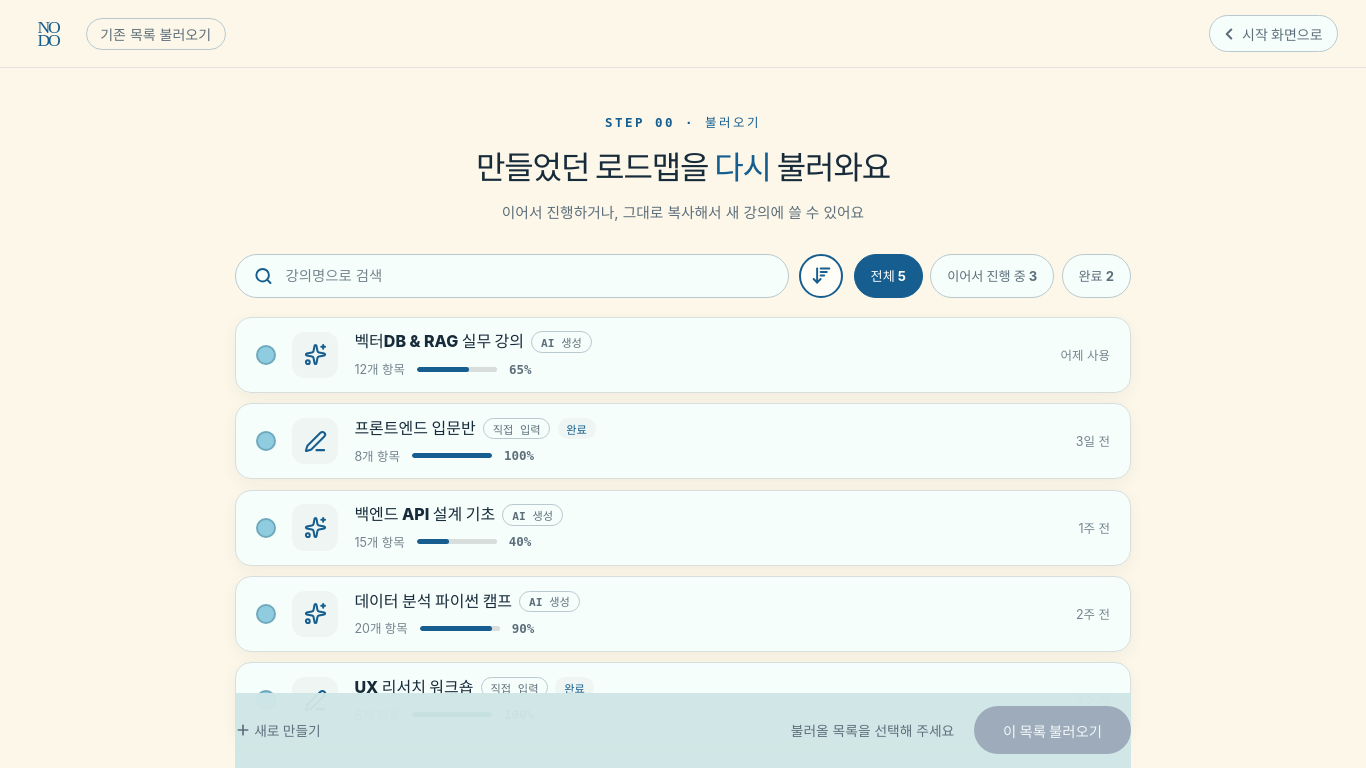
Test: ImportCoursesPage › 선택 전에는 불러오기 버튼이 비활성화되고 선택 후 활성화된다
expect the button "이 목록 불러오기" is disabled: met, box [974, 706, 1131, 754]
Click the radio button with aria-label "백엔드 API 설계 기초 선택".
click(266, 528)  # box [256, 518, 276, 538]
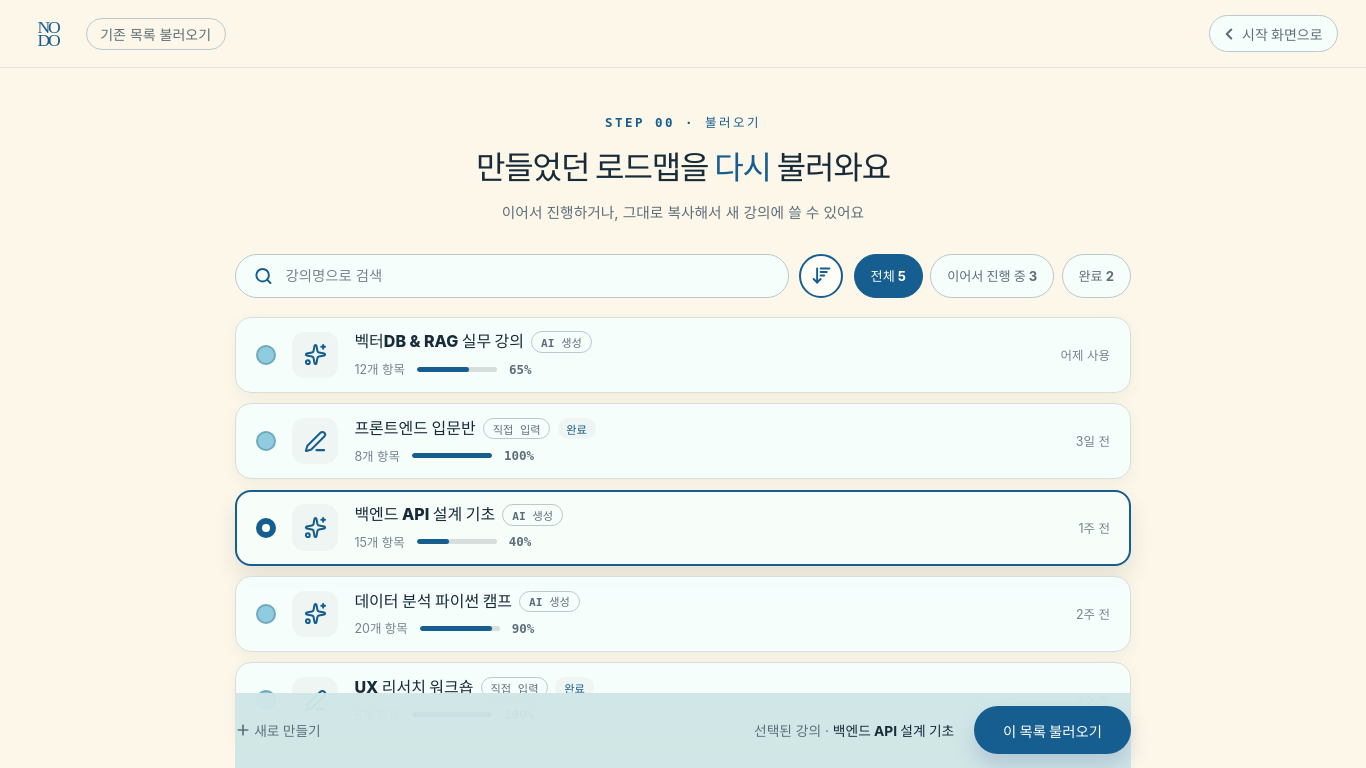
expect the button "이 목록 불러오기" is enabled: met, box [974, 706, 1131, 754]
expect the text "선택된 강의 · 백엔드 API 설계 기초" is shown: met, box [754, 723, 954, 739]
